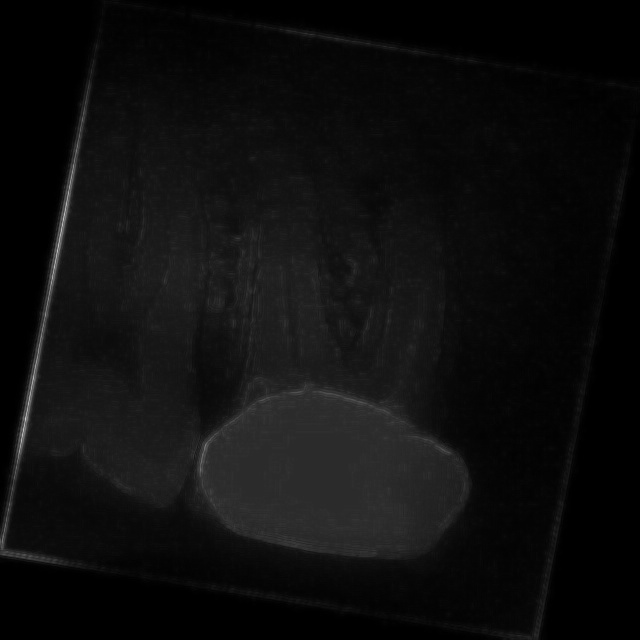Class 2- incomplete endodontic treatment: (125, 130, 545, 589)
